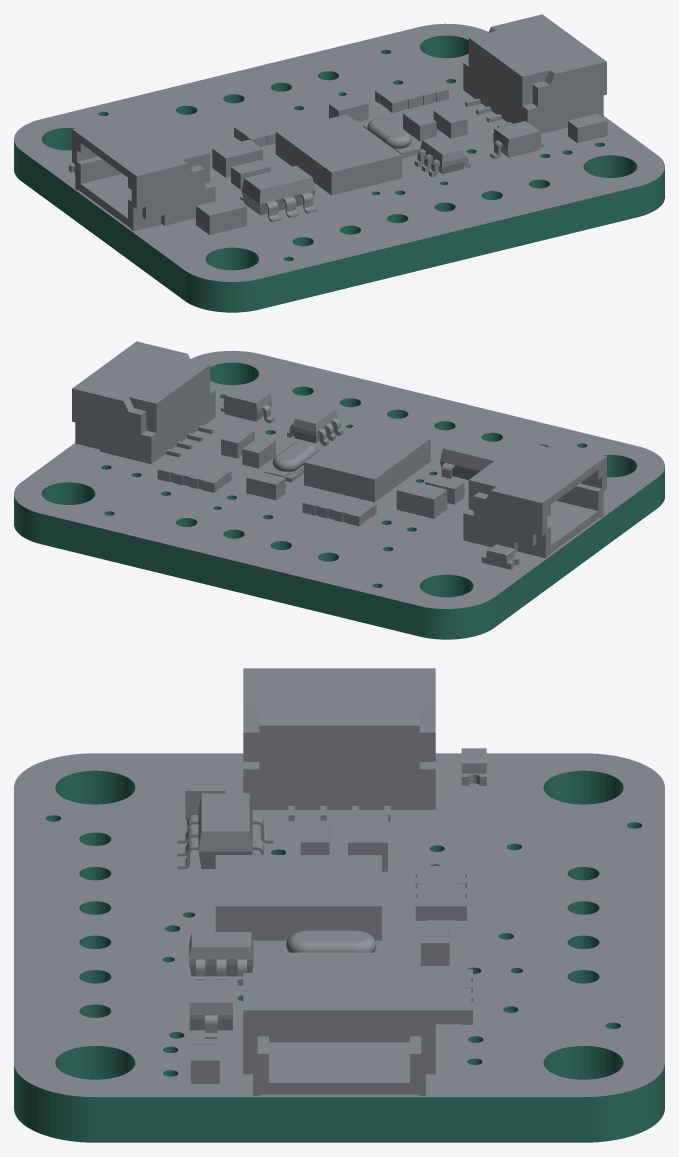
The model's file is reference-imu.glb.
3 renders of one model, top to bottom at view 1: azimuth 30°, elevation 25°; view 2: azimuth 150°, elevation 25°; view 3: azimuth 270°, elevation 25°, orthographic. The views are drawn at different scales.
Visible parts, largest first — view 1: BNO055; view 2: BNO055; view 3: BNO055.
Boxes of the visible parts, bbox=[...] form: BNO055: bbox=[14, 14, 664, 312]; BNO055: bbox=[14, 341, 664, 639]; BNO055: bbox=[14, 668, 664, 1142].
Bounding box in the file's own units: 1 × 0.1783 × 0.8.
